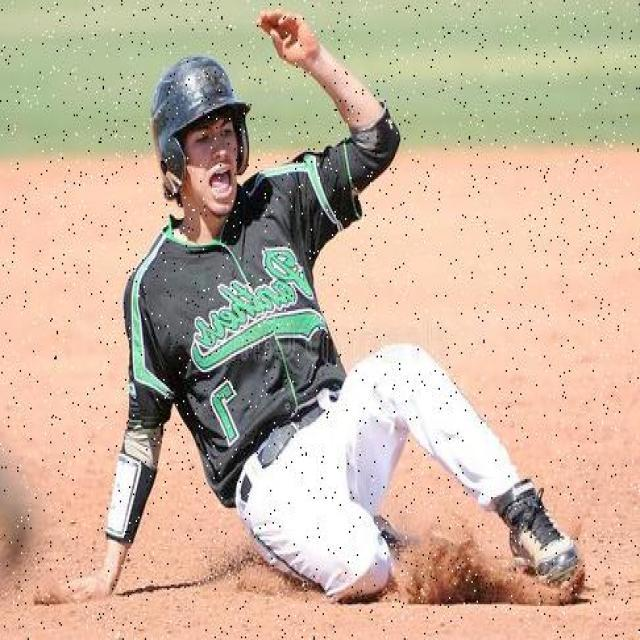fall: (101, 26, 588, 594)
